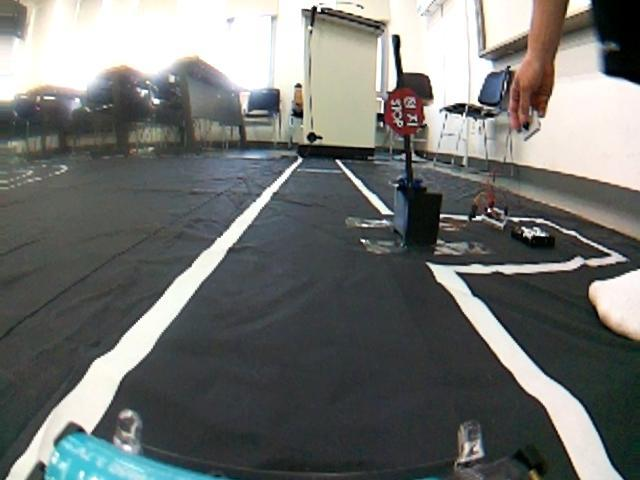sign_stop: (382, 86, 427, 137)
straight: (4, 206, 640, 480)
